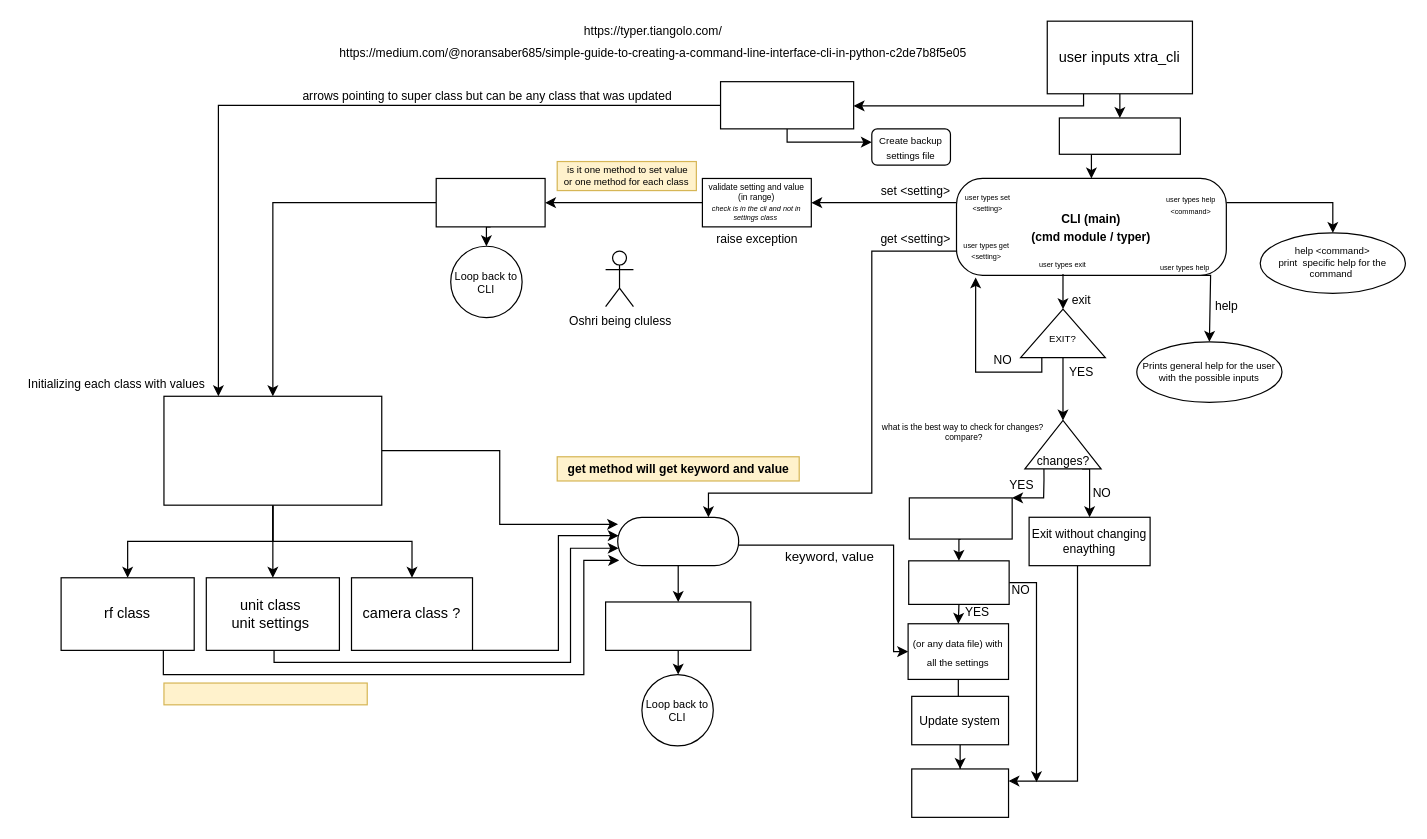
Image size: 1427x839. Some labels were removed from this diagram. Each missing label, with the centre of its shape:
Any possible other classes: pixel 265 693
get method (one method): pixel 677 541
get the current values from the system: pixel 786 104
Print data for the user keyword = value: pixel 677 625
Print diff to user: pixel 960 518
restart nodes: pixel 960 792
SAVE?: pixel 958 582
settings Superclass (is it needed?): pixel 272 450
Stop relevant services: pixel 1119 135
update value in class (the one that was updated) update but don't save it: pixel 490 202
